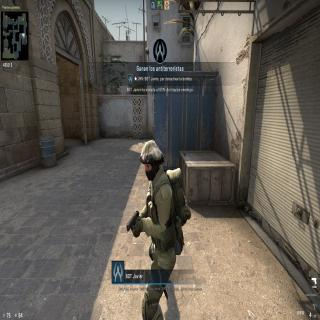CT-Head: (138, 138, 166, 182)
